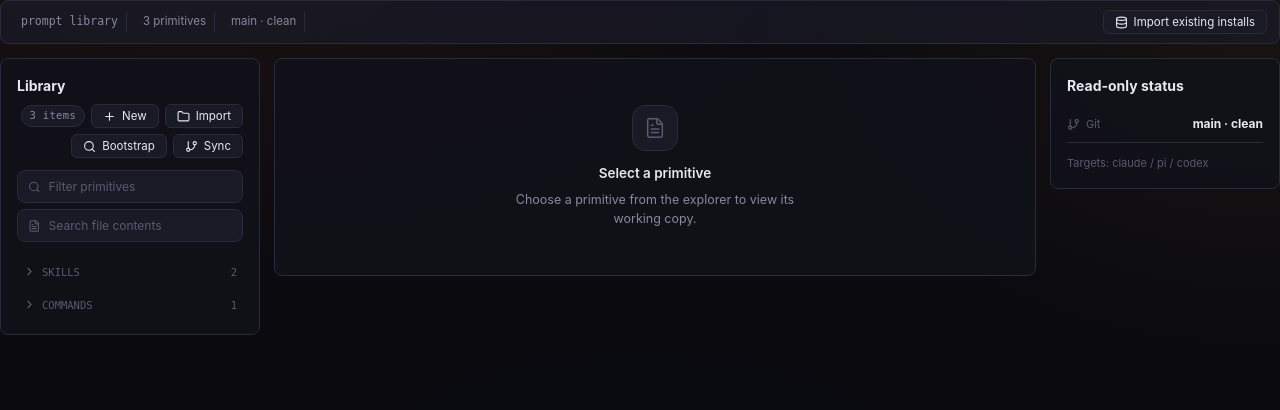
Test: Library route — install rows, two-phase confirm, drift, import › a format-version mismatch tells the user to upgrade the dashboard build
The width and height of the screenshot is (1280, 410).
Step 1. Click the button "Import existing installs" → (1185,22), box [1103, 10, 1267, 34]
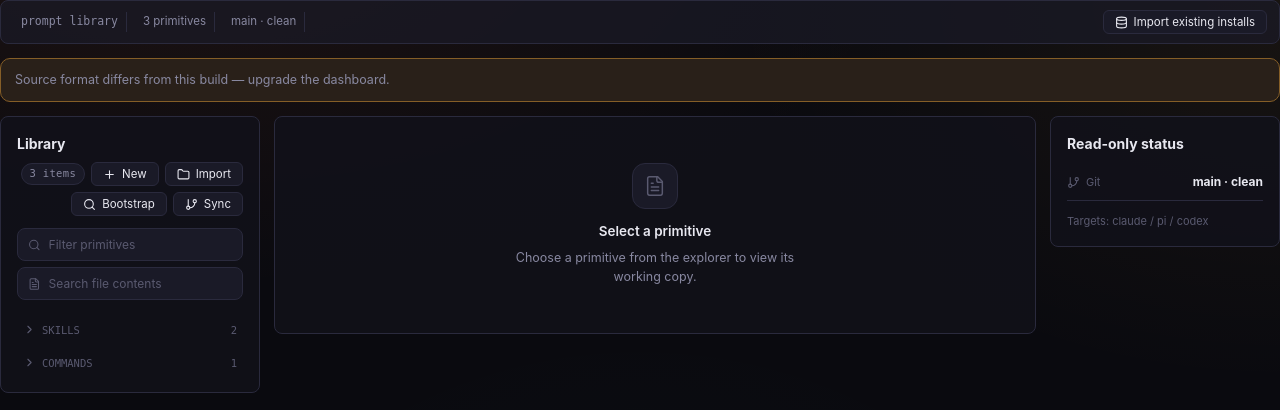
expect the text "upgrade the dashboard" is shown: met, box [15, 72, 390, 87]
